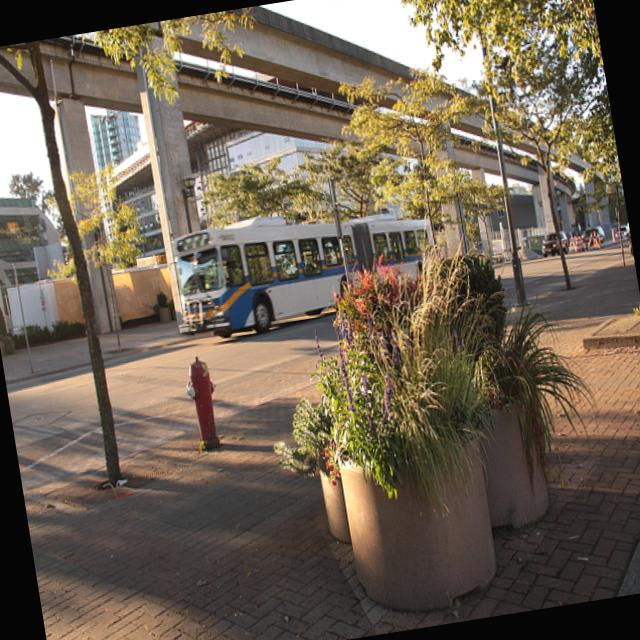Vehicle: (166, 196, 446, 349), (540, 230, 572, 258), (614, 227, 629, 240)
